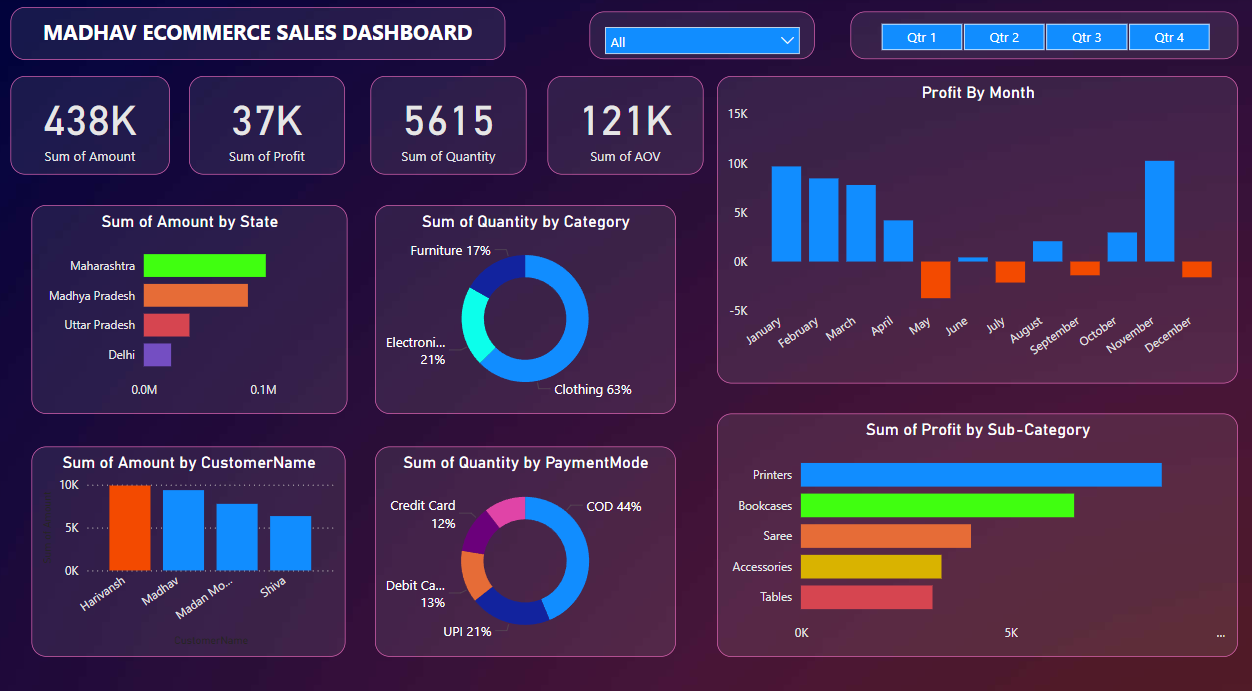

This screenshot's page, from the dashboard's own definition file:
{"tool":"powerbi","page":{"name":"Page 1","canvas":[1280,720],"ordinal":0},"visuals":[{"type":"textbox","box":[10.1,11.8,505.4,53.7],"z":0},{"type":"columnChart","title":"Profit By Month","fields":{"Y":["Details.Profit"],"Category":["Orders.Order Date.Variation.Date Hierarchy.Month"]},"box":[732.1,82.3,532.3,314],"z":1000},{"type":"barChart","fields":{"Category":["Details.Sub-Category"],"Y":["Details.Profit"]},"box":[732.1,428.2,532.3,248.5],"z":2000},{"type":"donutChart","fields":{"Category":["Details.Category"],"Y":["Details.Quantity"]},"box":[382.8,214.9,307.3,213.2],"z":3000},{"type":"donutChart","fields":{"Category":["Details.PaymentMode"],"Y":["Details.Quantity"]},"box":[382.8,461.7,307.3,214.9],"z":4000},{"type":"card","fields":{"Values":["Details.Amount"]},"box":[10.1,82.3,162.9,100.7],"z":5000},{"type":"card","fields":{"Values":["Details.Quantity"]},"box":[377.8,82.3,159.5,100.7],"z":6000},{"type":"card","fields":{"Values":["Details.Profit"]},"box":[193.1,82.3,159.5,100.7],"z":7000},{"type":"card","fields":{"Values":["Details.AOV"]},"box":[559.1,82.3,159.5,100.7],"z":8000},{"type":"barChart","fields":{"Category":["Orders.State"],"Y":["Details.Amount"]},"box":[31.9,214.9,322.4,213.2],"z":9000},{"type":"columnChart","fields":{"Category":["Orders.CustomerName"],"Y":["Details.Amount"]},"box":[31.9,461.7,320.7,214.9],"z":10000},{"type":"slicer","fields":{"Values":["Orders.Order Date.Variation.Date Hierarchy.Quarter"]},"box":[868.1,16.8,396.3,48.7],"z":10001},{"type":"slicer","fields":{"Values":["Orders.State"]},"box":[602.8,16.8,230,48.7],"z":10002}]}

Visuals, with their boxes in screenshot pixels (x1, y1, x2, y2), scaled from the page's 1280x720 canvas onto the 1252x691 screenshot:
textbox: <bbox>10, 11, 504, 63</bbox>
"Profit By Month" columnChart: <bbox>716, 79, 1237, 380</bbox>
barChart - Details.Sub-Category x Details.Profit: <bbox>716, 411, 1237, 649</bbox>
donutChart - Details.Category x Details.Quantity: <bbox>374, 206, 675, 411</bbox>
donutChart - Details.PaymentMode x Details.Quantity: <bbox>374, 443, 675, 649</bbox>
card - Details.Amount: <bbox>10, 79, 169, 176</bbox>
card - Details.Quantity: <bbox>370, 79, 526, 176</bbox>
card - Details.Profit: <bbox>189, 79, 345, 176</bbox>
card - Details.AOV: <bbox>547, 79, 703, 176</bbox>
barChart - Orders.State x Details.Amount: <bbox>31, 206, 347, 411</bbox>
columnChart - Orders.CustomerName x Details.Amount: <bbox>31, 443, 345, 649</bbox>
slicer - Orders.Order Date.Variation.Date Hierarchy.Quarter: <bbox>849, 16, 1237, 63</bbox>
slicer - Orders.State: <bbox>590, 16, 815, 63</bbox>
